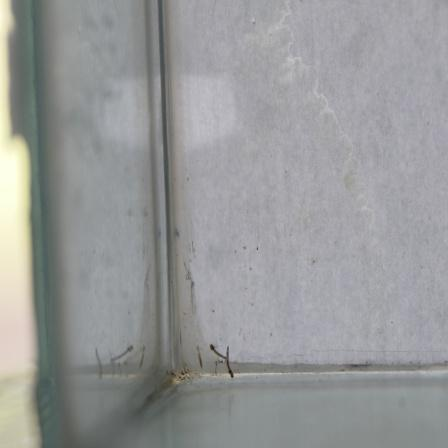Jentik-Nyamuk: (207, 337, 237, 382)
